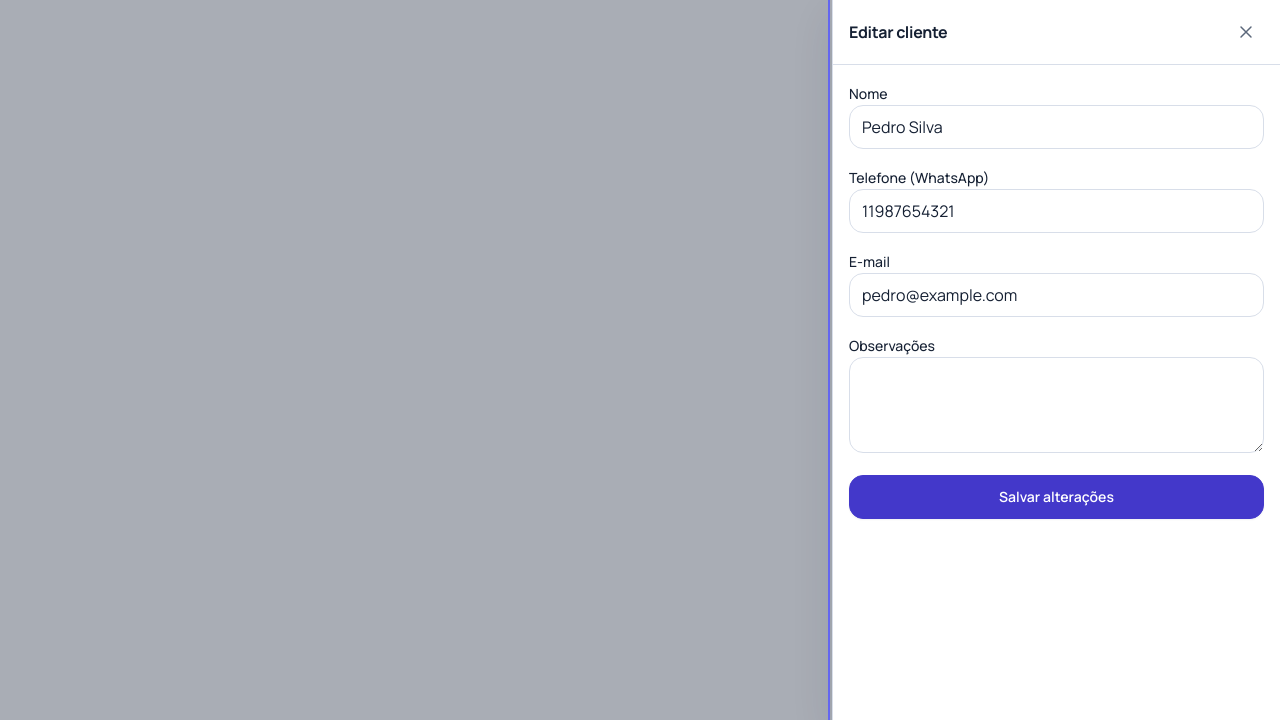
Test: ClientEditDrawer — desktop's inline panel over Cliente 360° › also honors Escape, with the same discard confirmation when dirty
In the field showing "Pedro Silva": (1056,127) [849,105,1264,149], type " Jr."
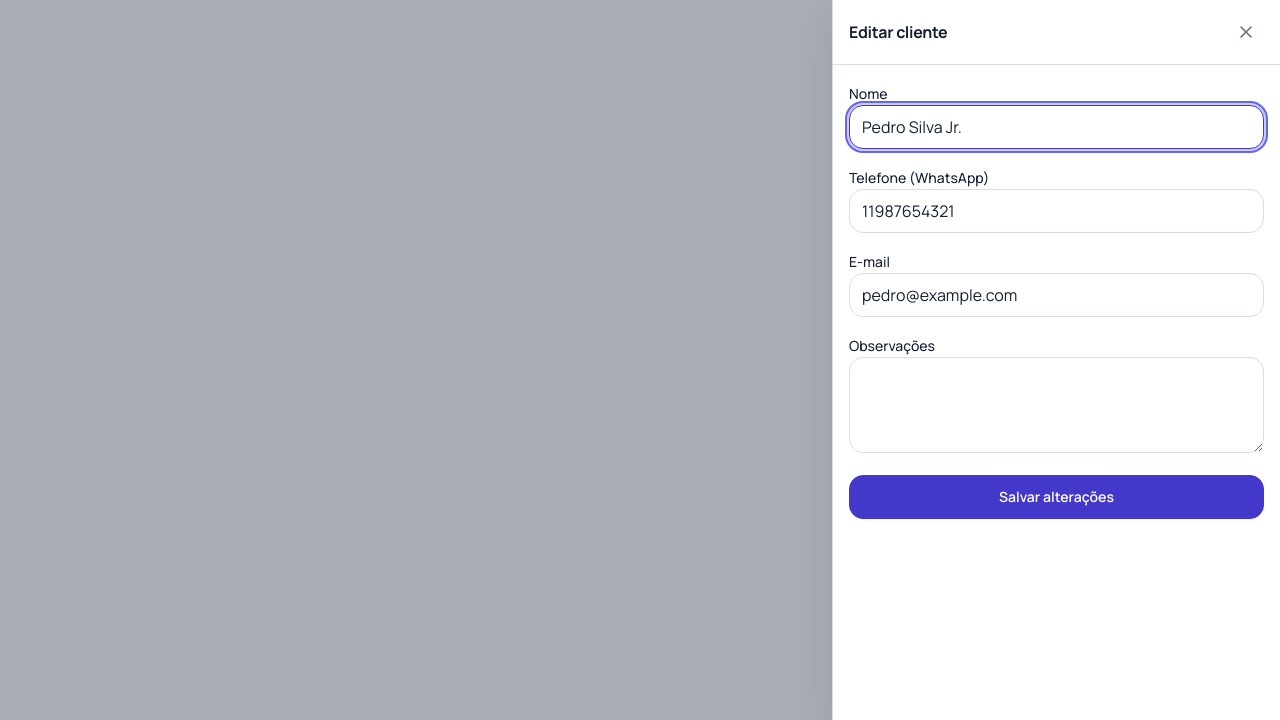
Press Escape
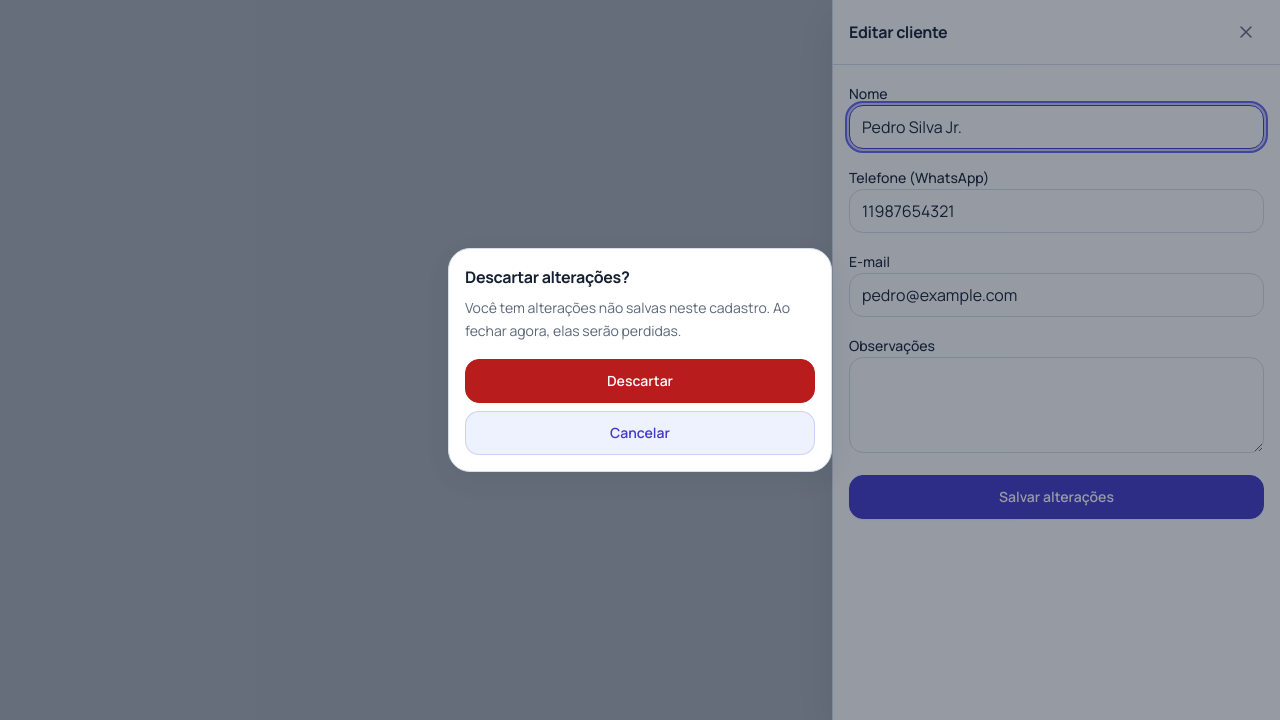
Check: the heading "Descartar alterações?" is shown, box [465,266,629,288]
